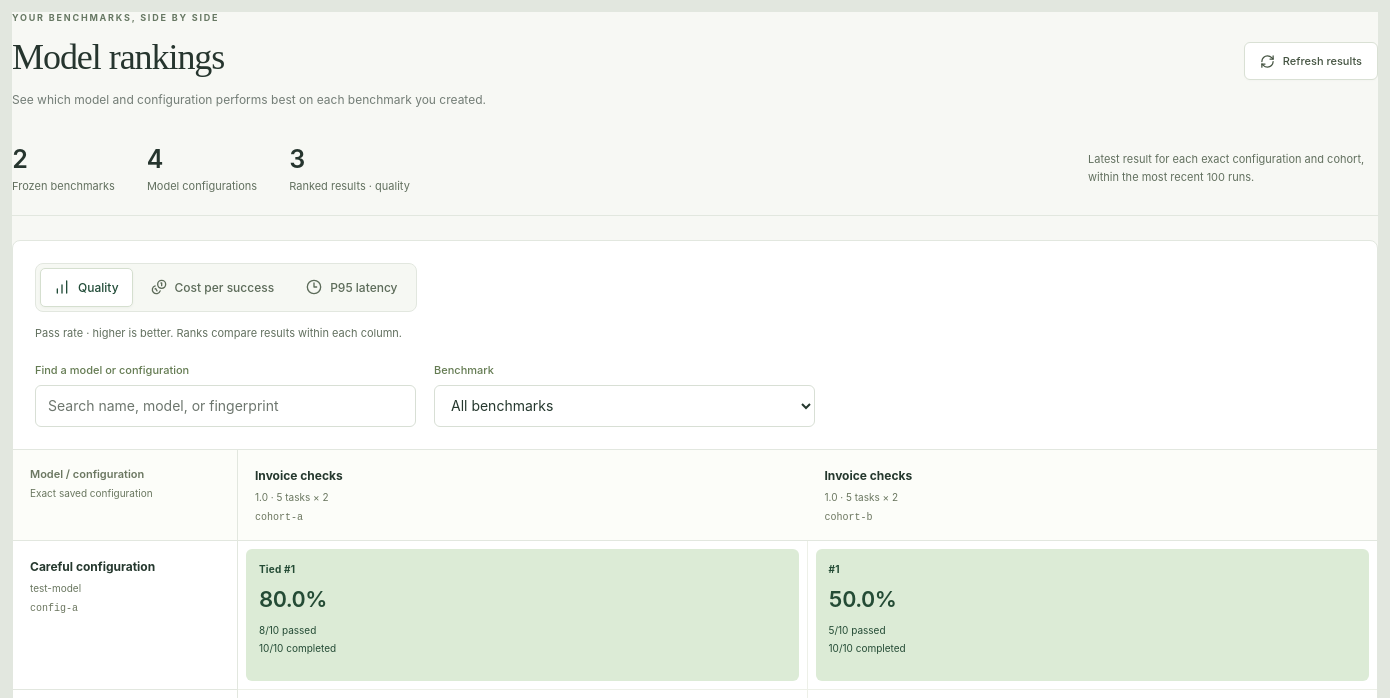
benchmark ranking matrix › switches independent metrics and withholds incomplete costs and timing ranks
Click the button "Cost per success". click: (212, 287)
box: [136,268,288,307]
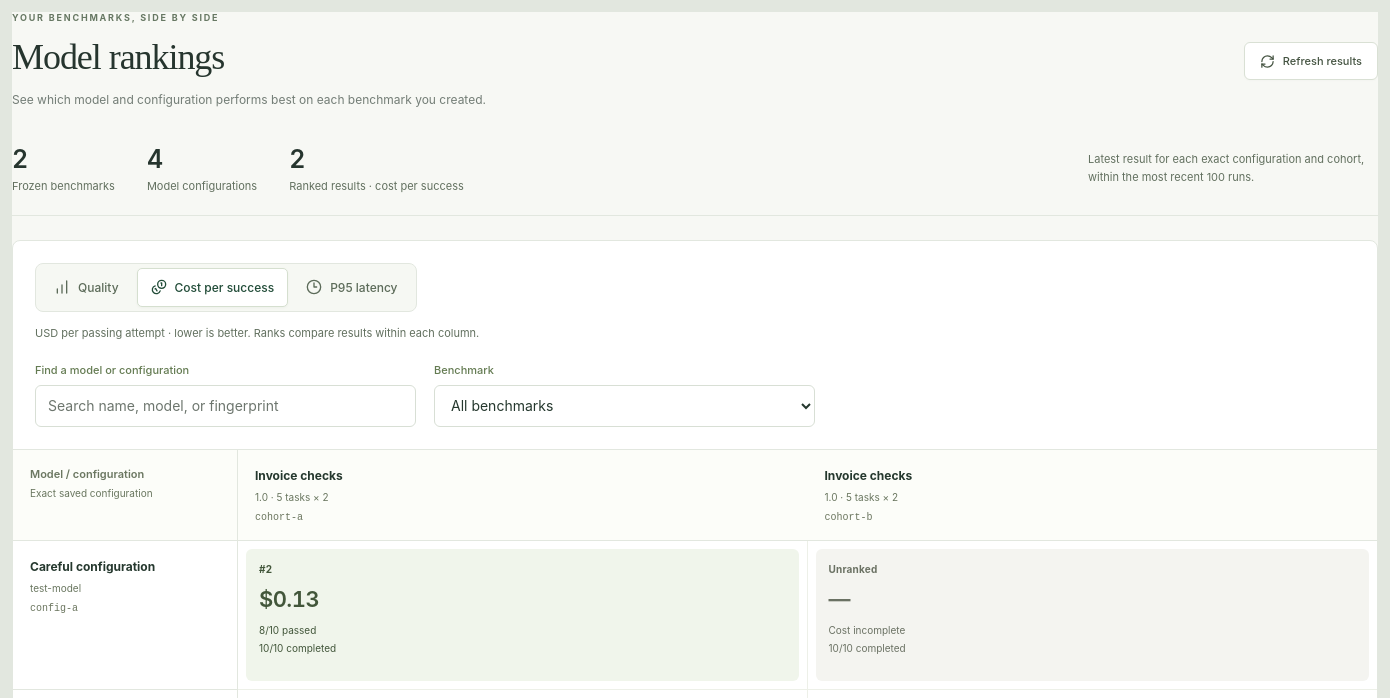
Expected: the button named "Careful configuration, Invoice checks, Cost per success: $0.13, #2" is shown, [246,549,798,681]
Expected: the text "Cost incomplete" is shown, [828,623,905,637]
Click the button "P95 latency". click: (352, 287)
box: [292,268,412,307]
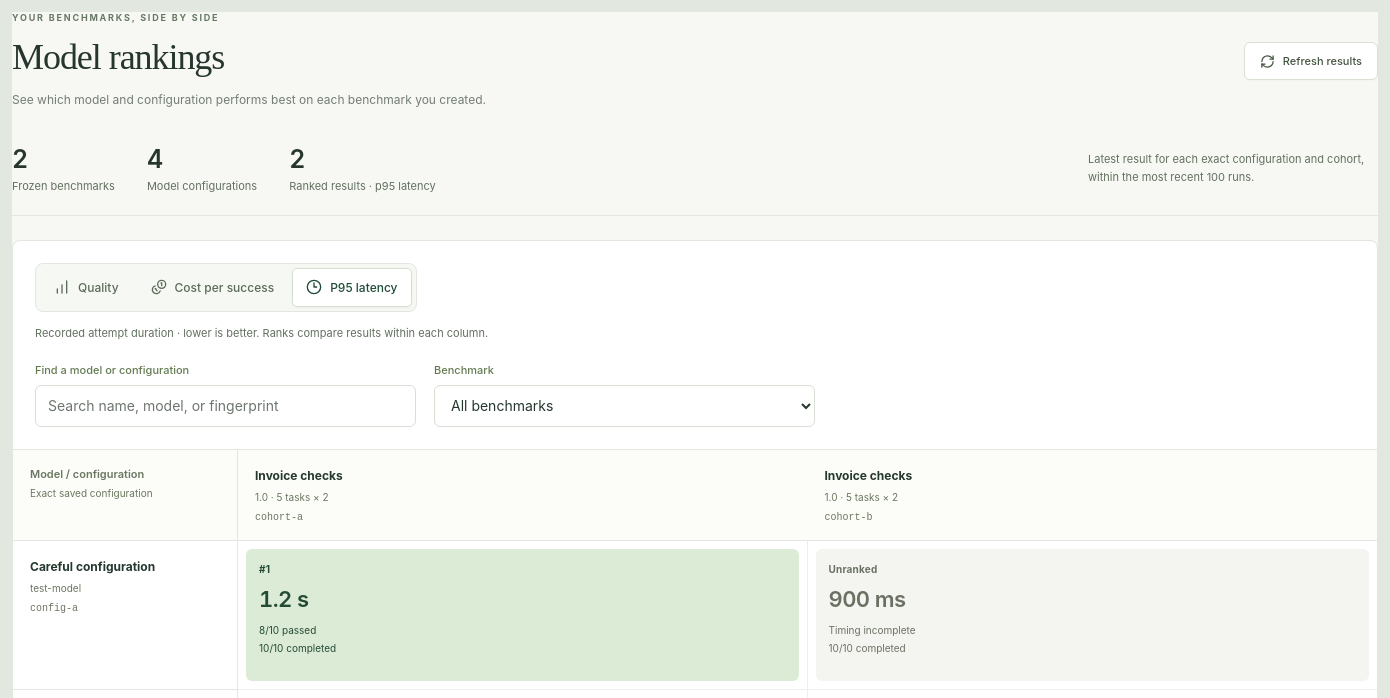
Expected: the button named "Careful configuration, Invoice checks, P95 latency: 1.2 s, #1" is shown, [246,549,798,681]
Expected: the text "Timing incomplete" is shown, [828,623,916,637]
